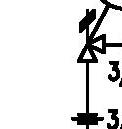psv: (75, 8, 106, 64)
